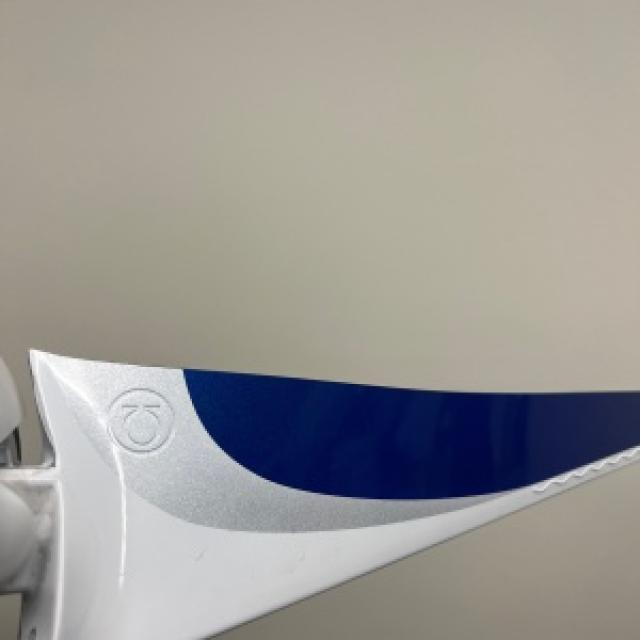healthy: (0, 352, 638, 638)
